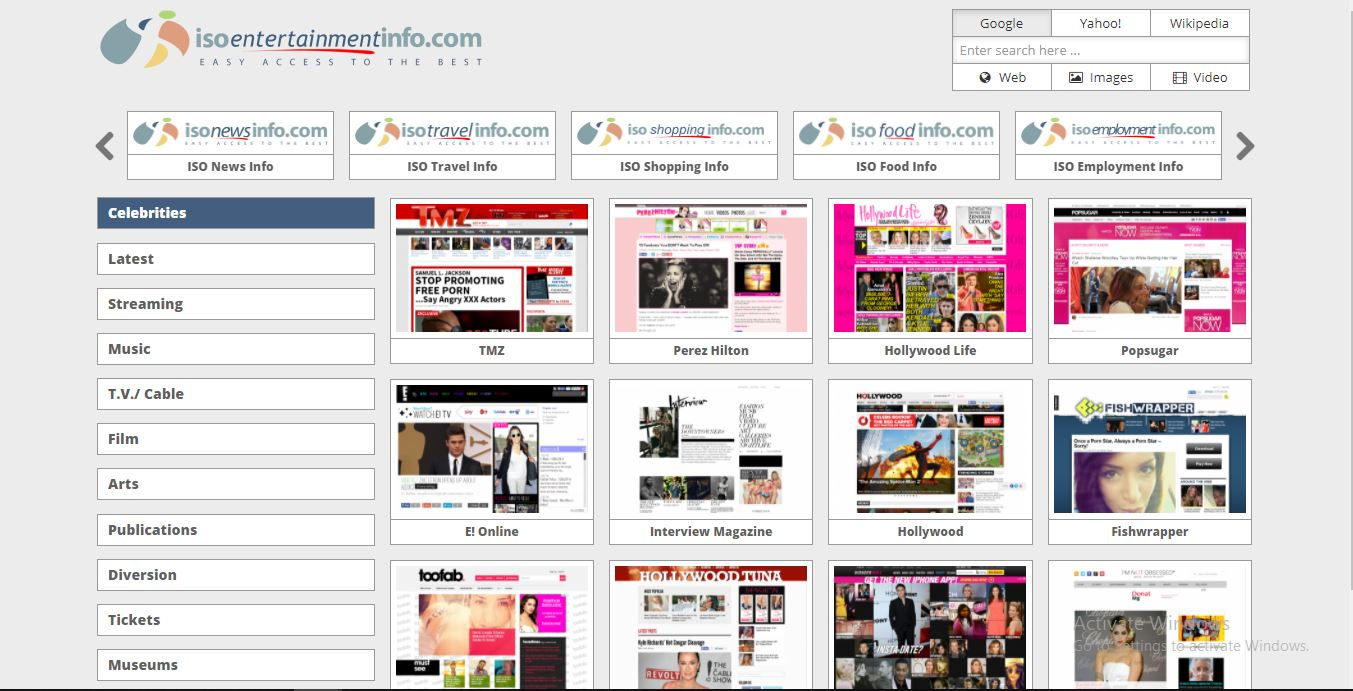Image: (92, 0, 504, 84)
Nav Bar: (943, 4, 1253, 96)
Side Bar: (92, 193, 379, 691)
Text Field: (954, 36, 1252, 64)
